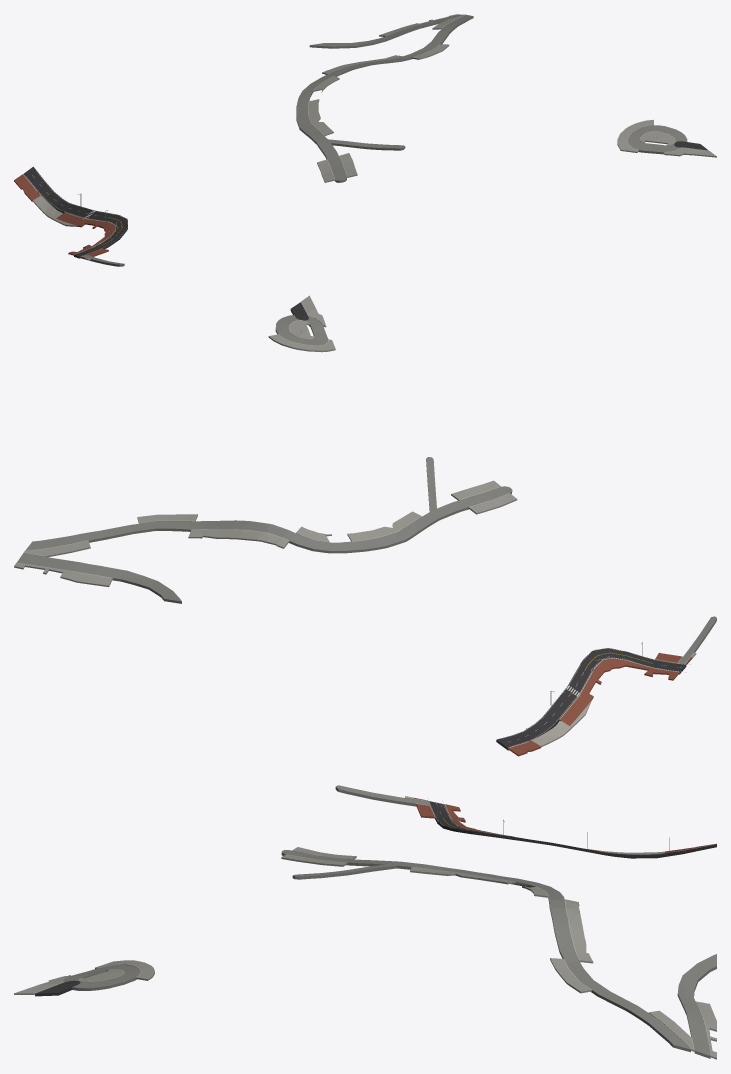
3 renders of one model, top to bottom at view 1: azimuth 30°, elevation 25°; view 2: azimuth 150°, elevation 25°; view 3: azimuth 270°, elevation 25°, orthographic. The views are drawn at different scales.
Bounding box in the file's own units: 297 × 68.64 × 273.
